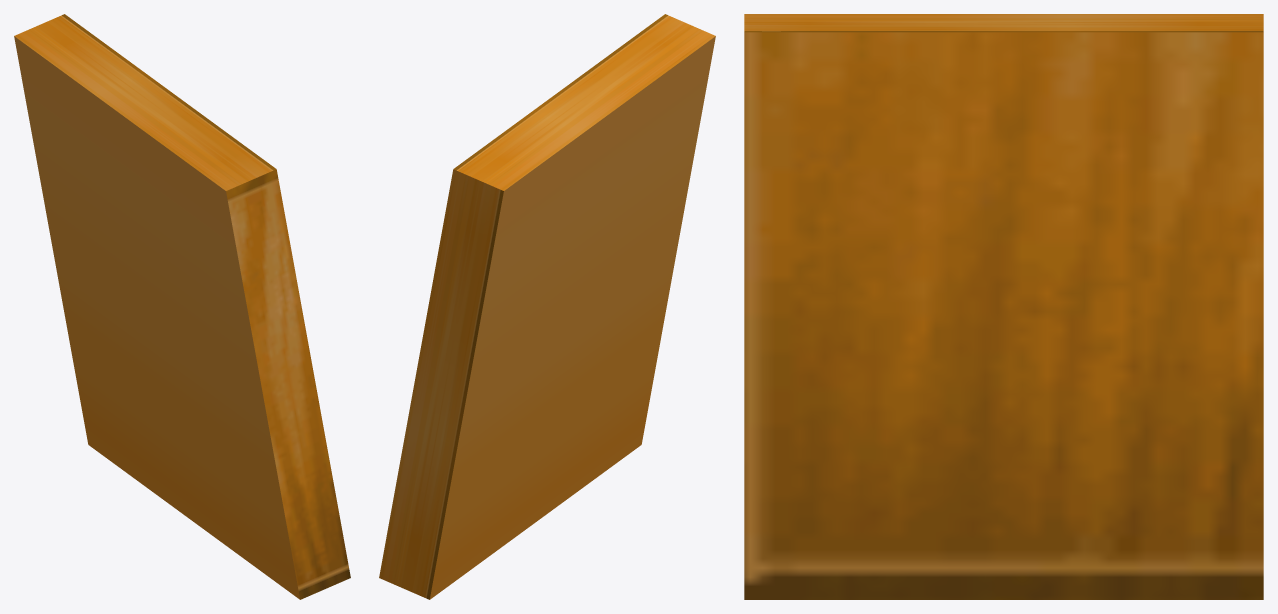
The picture shows the model from 3 angles, left to right: view 1: azimuth 30°, elevation 25°; view 2: azimuth 150°, elevation 25°; view 3: azimuth 270°, elevation 25°; orthographic projection. The views are drawn at different scales.
Parts seen in each view (by area): view 1: Joint_0_Object_0; view 2: Joint_0_Object_0; view 3: Joint_0_Object_0.
Part boxes in pixels (left/top/right/bottom): Joint_0_Object_0: left=14, top=14, right=350, bottom=599; Joint_0_Object_0: left=379, top=14, right=715, bottom=599; Joint_0_Object_0: left=744, top=14, right=1263, bottom=599.
Size of the model in its own units: 141 by 473 by 416.
